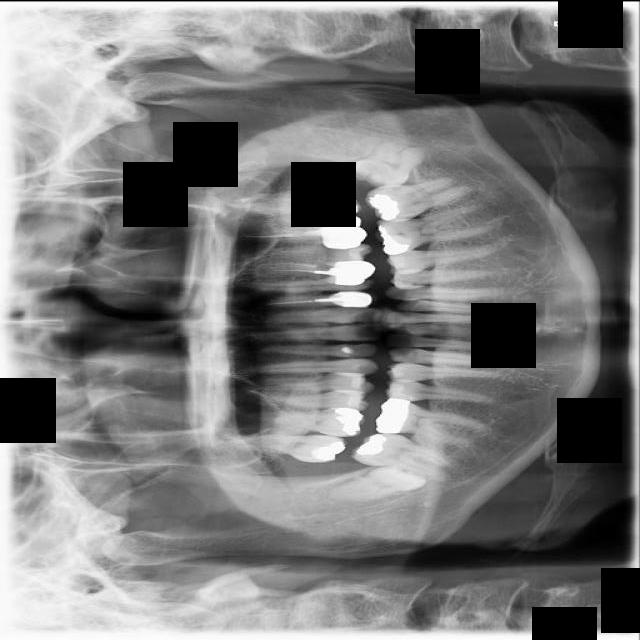52: (364, 171, 427, 233), (372, 209, 423, 257), (314, 210, 370, 253), (373, 394, 425, 440), (307, 179, 362, 222), (351, 429, 409, 468), (316, 402, 368, 441), (293, 433, 349, 463), (323, 259, 377, 286), (331, 290, 378, 307)
73: (254, 252, 331, 280), (242, 216, 320, 243), (261, 294, 336, 309), (565, 20, 595, 28)
BioHorizons Implant: (250, 184, 362, 223)
Biomet 3i Implant: (342, 122, 436, 207)
Blue Sky Bio Implant: (363, 173, 473, 225)
Caries: (236, 430, 347, 463)
Implant: (350, 424, 451, 479)
Keystone Dental Implant: (325, 457, 426, 510)
